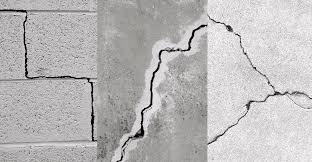crack: (114, 22, 206, 161), (207, 14, 276, 93), (205, 91, 280, 144), (275, 87, 311, 111)
stairstep_crack: (0, 6, 97, 142)
